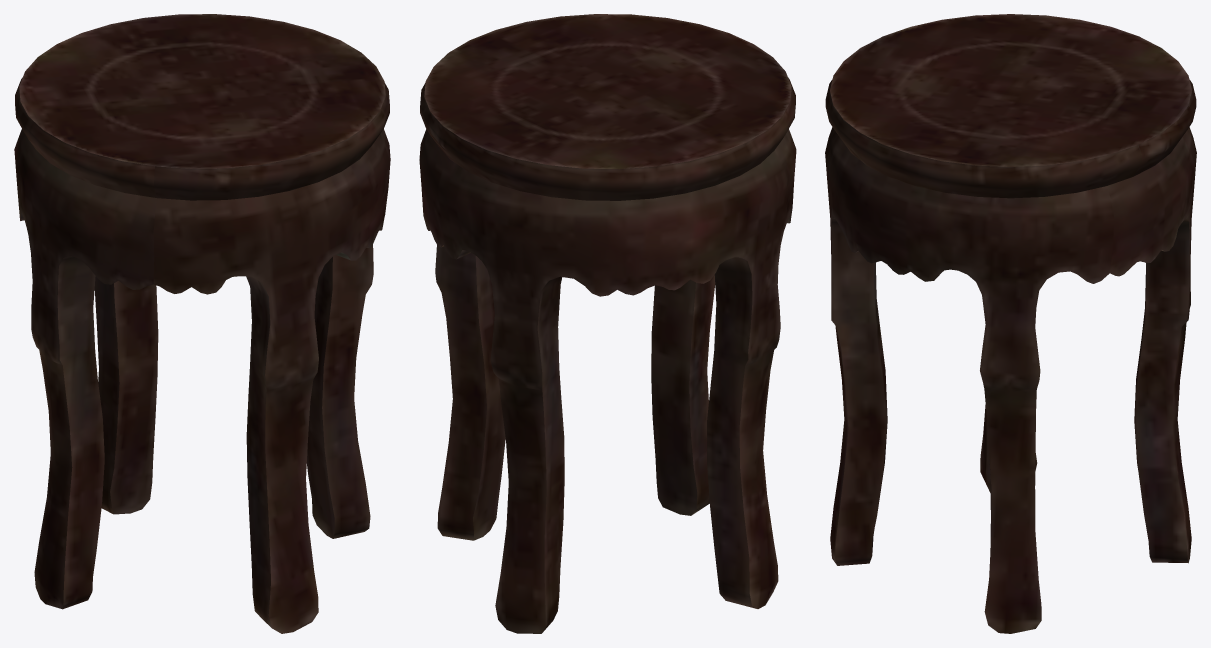
Rendered from table.glb.
3 renders of one model, left to right at view 1: azimuth 30°, elevation 25°; view 2: azimuth 150°, elevation 25°; view 3: azimuth 270°, elevation 25°, orthographic.
Visible parts, largest first — view 1: WoodenTable_02; view 2: WoodenTable_02; view 3: WoodenTable_02.
Part boxes in pixels (left/top/right/bottom): WoodenTable_02: left=14, top=14, right=390, bottom=633; WoodenTable_02: left=419, top=14, right=796, bottom=633; WoodenTable_02: left=825, top=14, right=1196, bottom=633.
Size of the model in its own units: 0.3007 by 0.4177 by 0.3007.
Materials: 1 (1 with a texture image).
